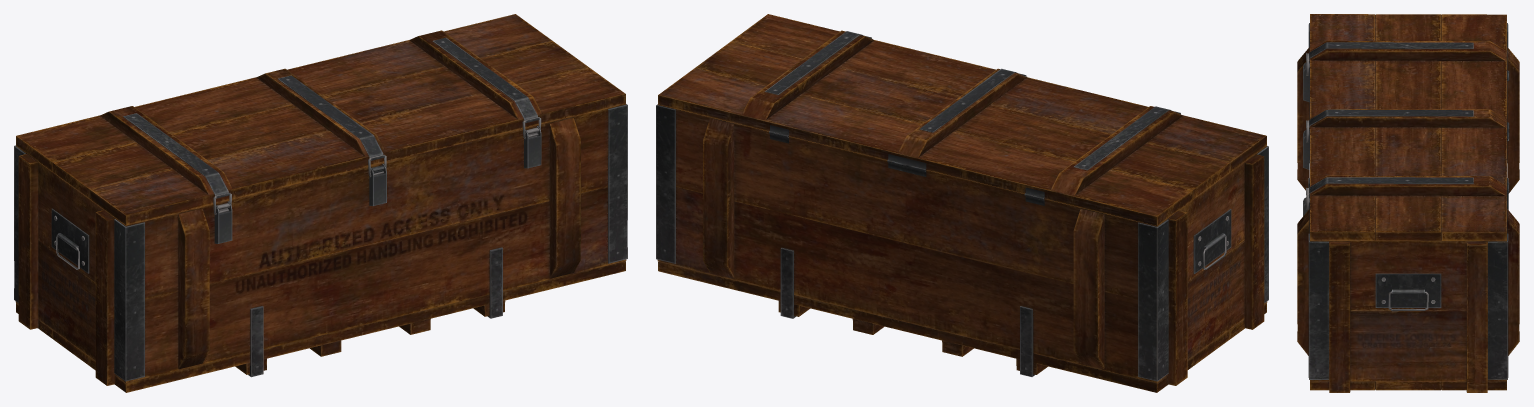
File: wooden_military_crate_game.glb
3 renders of one model, left to right at view 1: azimuth 30°, elevation 25°; view 2: azimuth 150°, elevation 25°; view 3: azimuth 270°, elevation 25°, orthographic. The views are drawn at different scales.
Visible parts, largest first — view 1: wooden_military_crate, wooden_military_crate_lid; view 2: wooden_military_crate, wooden_military_crate_lid; view 3: wooden_military_crate_lid, wooden_military_crate.
Boxes of the visible parts, x1,y1,x2,y2 form: wooden_military_crate: [14, 103, 627, 392]; wooden_military_crate_lid: [16, 14, 625, 225]; wooden_military_crate: [656, 104, 1268, 392]; wooden_military_crate_lid: [658, 14, 1266, 225]; wooden_military_crate_lid: [1306, 14, 1509, 240]; wooden_military_crate: [1297, 23, 1519, 392].
Bounding box in the file's own units: 1.24 × 0.4645 × 0.5174.
Materials: 1 (1 with a texture image).
